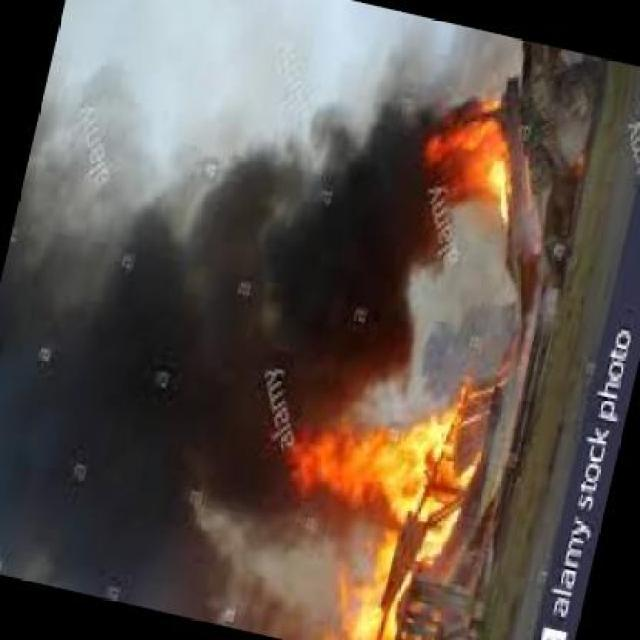Fire: (278, 404, 498, 526), (428, 80, 525, 210), (333, 532, 446, 638)
Smoke: (0, 221, 271, 605), (263, 95, 426, 403)
